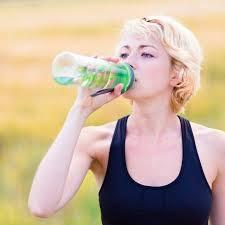Drinking: (51, 40, 180, 102)
